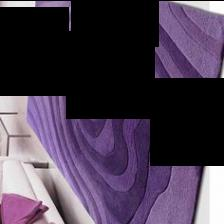purple: (28, 0, 224, 224), (1, 193, 48, 224)
